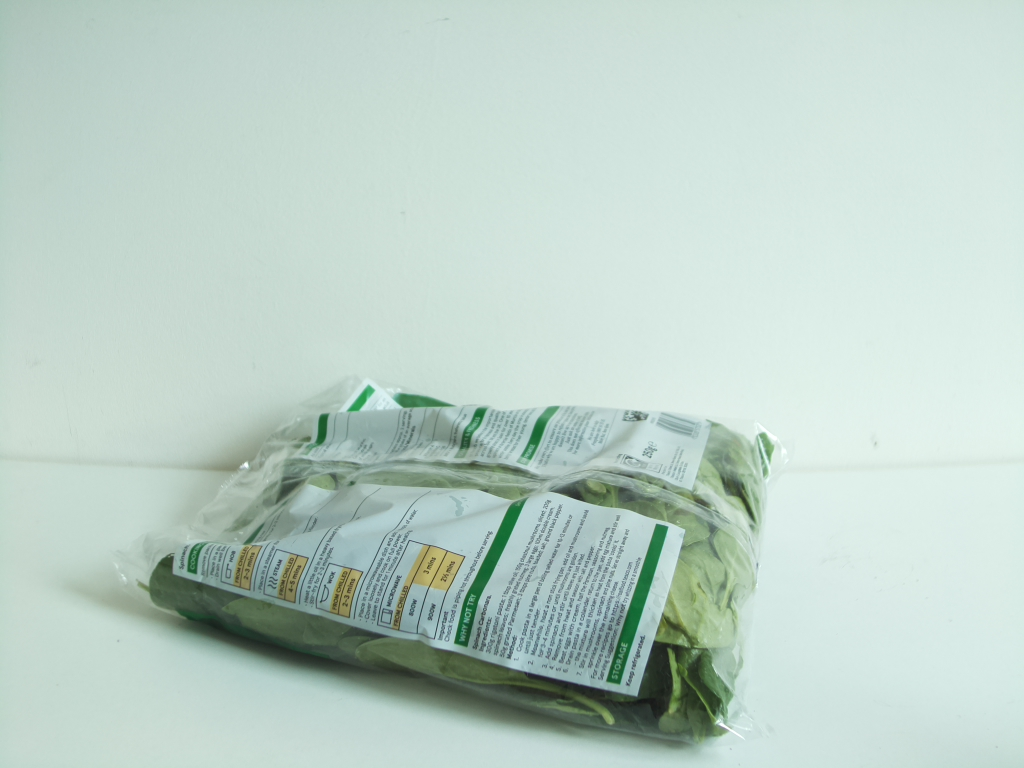salad: (152, 387, 777, 749)
